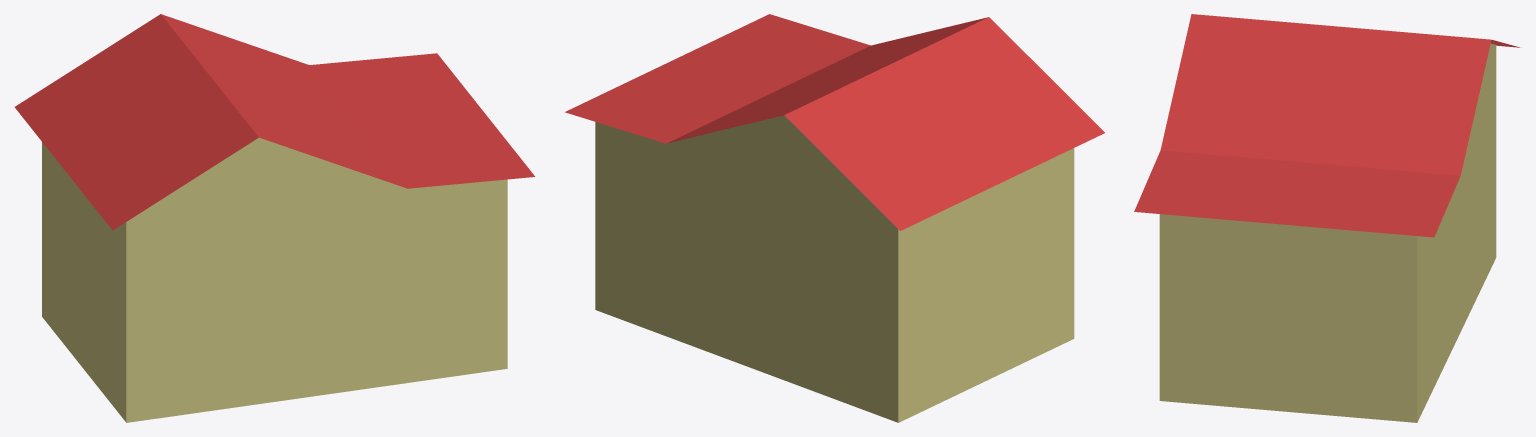
The picture shows the model from 3 angles, left to right: view 1: azimuth 30°, elevation 25°; view 2: azimuth 150°, elevation 25°; view 3: azimuth 270°, elevation 25°; orthographic projection.
Bounding box in the file's own units: 11.39 × 8.93 × 6.97.
